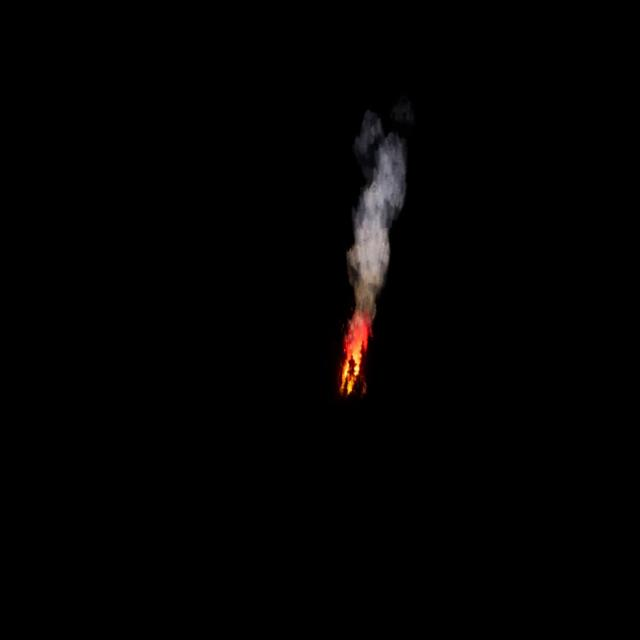fire: (336, 313, 371, 392)
smoke: (344, 111, 409, 311)
